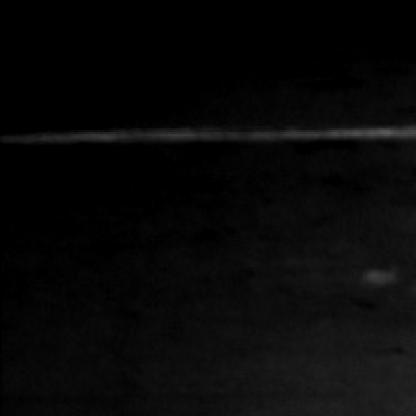scratches: (4, 118, 416, 156)
